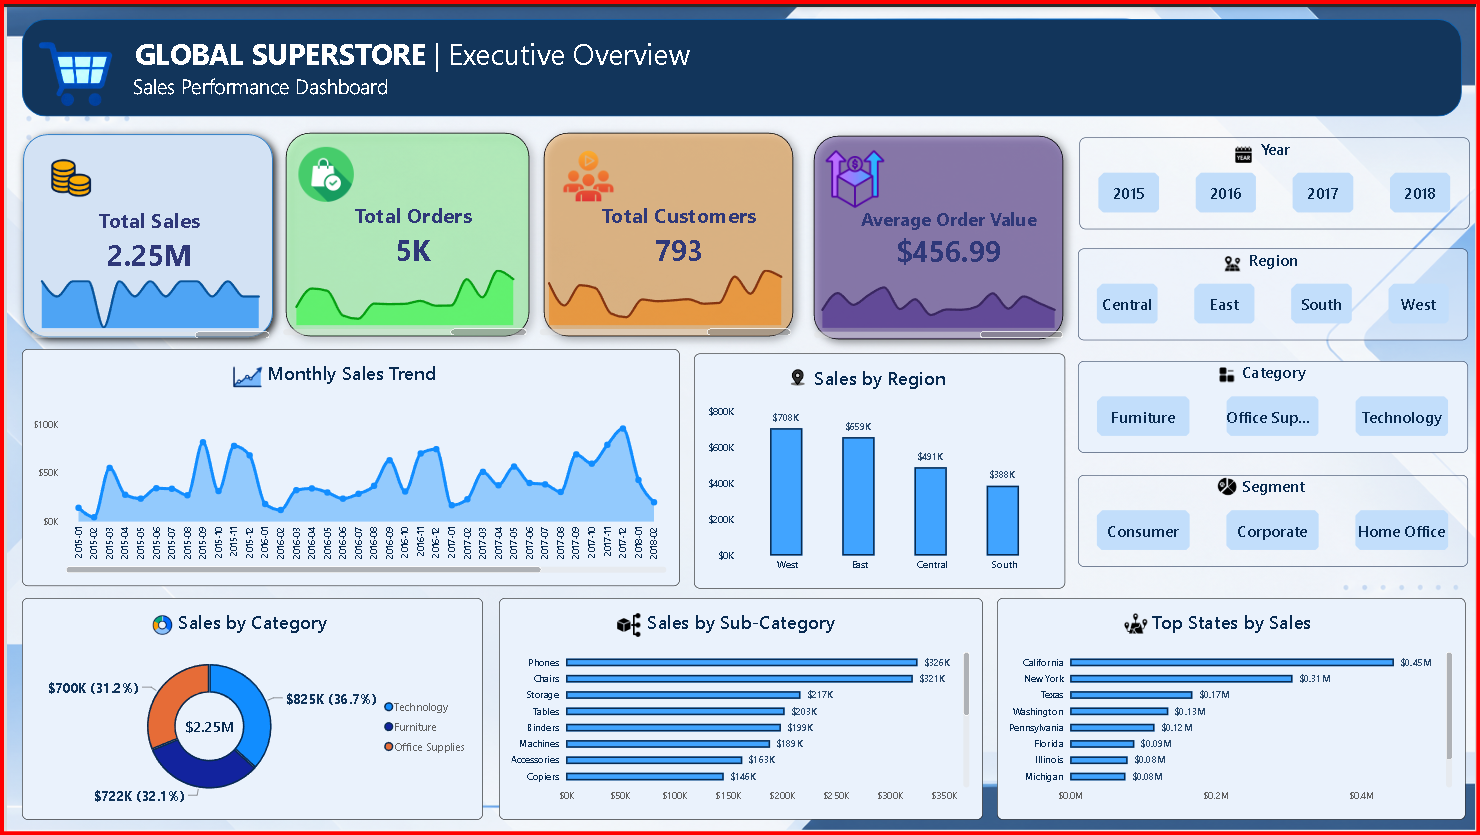

The page's visual inventory and layout, read from the dashboard file:
{"tool":"powerbi","page":{"name":"Executive Overview","canvas":[1920,1080],"ordinal":0},"visuals":[{"type":"shape","box":[6.7,151.3,357,296],"z":0,"group":"g1"},{"type":"lineChart","title":"Monthly Sales Trend","fields":{"Category":["Date_Table.Year Month"],"Y":["Global_Superstore_Cleaned.Total Sales"]},"box":[20,447.5,860,310],"z":0},{"type":"shape","box":[20,15,1882.5,127.5],"z":1000},{"type":"shape","box":[348.8,150,349.3,297],"z":1000,"group":"g2"},{"type":"shape","box":[685.6,150,357,297],"z":1000,"group":"g3"},{"type":"shape","box":[1040.7,153.3,357,297],"z":1000,"group":"g4"},{"type":"cardVisual","fields":{"Data":["Global_Superstore_Cleaned.Total Sales"]},"box":[64.1,256.5,247.3,96.5],"z":1000,"group":"g1"},{"type":"image","box":[712.4,183,96.5,77],"z":1500,"group":"g3"},{"type":"image","box":[1059.8,186.3,99.2,77],"z":1500,"group":"g4"},{"type":"cardVisual","fields":{"Data":["Global_Superstore_Cleaned.Total Orders"]},"box":[399.6,252.9,262,96.6],"z":2000,"group":"g2"},{"type":"cardVisual","fields":{"Data":["Global_Superstore_Cleaned.Total Customers"]},"box":[752,252.9,255.7,96.6],"z":2000,"group":"g3"},{"type":"cardVisual","fields":{"Data":["Global_Superstore_Cleaned.Average Order Value"]},"box":[1100.5,256.2,262.8,96.6],"z":2000,"group":"g4"},{"type":"lineChart","fields":{"Category":["Date_Table.Year Month"],"Y":["CountNonNull(Date_Table.Year Month)"]},"box":[15.6,334.8,343.3,113.5],"z":2000,"group":"g1"},{"type":"clusteredColumnChart","title":"Sales by Region","fields":{"Category":["Global_Superstore_Cleaned.Region"],"Y":["Global_Superstore_Cleaned.Total Sales"]},"box":[897.5,452.5,485,307.5],"z":2000},{"type":"image","box":[341.1,180.5,152.1,76.8],"z":2500,"group":"g2"},{"type":"image","box":[46.5,193,77.3,63.6],"z":3000,"group":"g1"},{"type":"lineChart","fields":{"Category":["Date_Table.Year Month"],"Y":["Global_Superstore_Cleaned.Total Orders"]},"box":[344.1,323.3,350,123.3],"z":3000,"group":"g2"},{"type":"lineChart","fields":{"Category":["Date_Table.Year Month"],"Y":["Global_Superstore_Cleaned.Total Customers"]},"box":[680.4,323.3,360,123.3],"z":3000,"group":"g3"},{"type":"lineChart","fields":{"Category":["Date_Table.Year Month"],"Y":["Global_Superstore_Cleaned.Average Order Value"]},"box":[1040,328.5,357,121],"z":3000,"group":"g4"},{"type":"donutChart","title":"Sales by Category","fields":{"Category":["Global_Superstore_Cleaned.Category"],"Y":["Global_Superstore_Cleaned.Total Sales"]},"box":[20,772.5,602.5,290],"z":3000},{"type":"image","box":[1582.9,181.4,68.6,21.4],"z":4000},{"type":"advancedSlicerVisual","fields":{"Values":["Date_Table.Year"]},"box":[1401.4,171.4,510,120],"z":5000},{"type":"advancedSlicerVisual","fields":{"Values":["Global_Superstore_Cleaned.Region"]},"box":[1400,315,510,120],"z":6000},{"type":"advancedSlicerVisual","fields":{"Values":["Global_Superstore_Cleaned.Category"]},"box":[1400,462.5,510,120],"z":7000},{"type":"advancedSlicerVisual","fields":{"Values":["Global_Superstore_Cleaned.Segment"]},"box":[1400,612.5,510,120],"z":8000},{"type":"textbox","box":[42.5,35,1845,115],"z":9000,"group":"g5"},{"type":"clusteredBarChart","title":"Sales by Sub-Category","fields":{"Category":["Global_Superstore_Cleaned.Sub-Category"],"Y":["Global_Superstore_Cleaned.Total Sales"]},"box":[642.5,772.5,632.5,290],"z":9000},{"type":"image","box":[20,35,140,105],"z":10000,"group":"g5"},{"type":"clusteredBarChart","title":"Top States by Sales","fields":{"Category":["Global_Superstore_Cleaned.State"],"Y":["Global_Superstore_Cleaned.Total Sales"]},"box":[1295,772.5,612.5,290],"z":10000},{"type":"group","id":"g1","title":"Group 1","box":[6.7,151.3,357,297],"z":11000},{"type":"group","id":"g2","title":"Group 1","box":[341.1,150,357,297],"z":12000},{"type":"group","id":"g3","title":"Group 1","box":[680.4,150,362.2,297],"z":13000},{"type":"group","id":"g4","title":"Group 1","box":[1040,153.3,357,297],"z":14000},{"type":"image","box":[1567.5,325,70,20],"z":15000},{"type":"image","box":[1572.5,470,43.3,20],"z":16000},{"type":"image","box":[1582.5,612.5,25,30],"z":17000},{"type":"image","box":[292.5,467.5,45,35],"z":18000},{"type":"image","box":[1007.5,465,50,35],"z":19000},{"type":"image","box":[790,790,45,35],"z":20000},{"type":"image","box":[1452.5,787.5,45,35],"z":21000},{"type":"group","id":"g5","title":"Group 2","box":[20,35,1867.5,115],"z":22000},{"type":"image","box":[180,787.5,45,35],"z":23000}]}

Visuals, with their boxes in screenshot pixels (x1, y1, x2, y2), scaled from the page's 1920x1080 canvas onto the 1480x835 screenshot:
shape: x1=5, y1=117, x2=280, y2=346
"Monthly Sales Trend" lineChart: x1=15, y1=346, x2=678, y2=586
shape: x1=15, y1=12, x2=1467, y2=110
shape: x1=269, y1=116, x2=538, y2=346
shape: x1=528, y1=116, x2=804, y2=346
shape: x1=802, y1=119, x2=1077, y2=348
cardVisual - Global_Superstore_Cleaned.Total Sales: x1=49, y1=198, x2=240, y2=273
image: x1=549, y1=141, x2=624, y2=201
image: x1=817, y1=144, x2=893, y2=204
cardVisual - Global_Superstore_Cleaned.Total Orders: x1=308, y1=196, x2=510, y2=270
cardVisual - Global_Superstore_Cleaned.Total Customers: x1=580, y1=196, x2=777, y2=270
cardVisual - Global_Superstore_Cleaned.Average Order Value: x1=848, y1=198, x2=1051, y2=273
lineChart - Date_Table.Year Month x CountNonNull(Date_Table.Year Month): x1=12, y1=259, x2=277, y2=347
"Sales by Region" clusteredColumnChart: x1=692, y1=350, x2=1066, y2=588
image: x1=263, y1=140, x2=380, y2=199
image: x1=36, y1=149, x2=95, y2=198
lineChart - Date_Table.Year Month x Global_Superstore_Cleaned.Total Orders: x1=265, y1=250, x2=535, y2=345
lineChart - Date_Table.Year Month x Global_Superstore_Cleaned.Total Customers: x1=524, y1=250, x2=802, y2=345
lineChart - Date_Table.Year Month x Global_Superstore_Cleaned.Average Order Value: x1=802, y1=254, x2=1077, y2=348
"Sales by Category" donutChart: x1=15, y1=597, x2=480, y2=821
image: x1=1220, y1=140, x2=1273, y2=157
advancedSlicerVisual - Date_Table.Year: x1=1080, y1=133, x2=1473, y2=225
advancedSlicerVisual - Global_Superstore_Cleaned.Region: x1=1079, y1=244, x2=1472, y2=336
advancedSlicerVisual - Global_Superstore_Cleaned.Category: x1=1079, y1=358, x2=1472, y2=450
advancedSlicerVisual - Global_Superstore_Cleaned.Segment: x1=1079, y1=474, x2=1472, y2=566
textbox: x1=33, y1=27, x2=1455, y2=116
"Sales by Sub-Category" clusteredBarChart: x1=495, y1=597, x2=983, y2=821
image: x1=15, y1=27, x2=123, y2=108
"Top States by Sales" clusteredBarChart: x1=998, y1=597, x2=1470, y2=821
"Group 1" group: x1=5, y1=117, x2=280, y2=347
"Group 1" group: x1=263, y1=116, x2=538, y2=346
"Group 1" group: x1=524, y1=116, x2=804, y2=346
"Group 1" group: x1=802, y1=119, x2=1077, y2=348
image: x1=1208, y1=251, x2=1262, y2=267
image: x1=1212, y1=363, x2=1246, y2=379
image: x1=1220, y1=474, x2=1239, y2=497
image: x1=225, y1=361, x2=260, y2=389
image: x1=777, y1=360, x2=815, y2=387
image: x1=609, y1=611, x2=644, y2=638
image: x1=1120, y1=609, x2=1154, y2=636
"Group 2" group: x1=15, y1=27, x2=1455, y2=116
image: x1=139, y1=609, x2=173, y2=636
